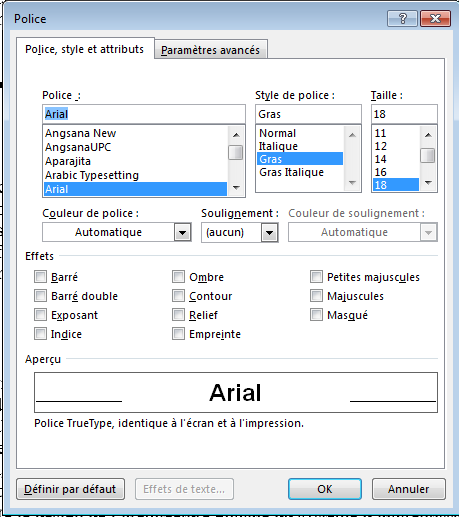texte: (24, 484, 116, 495), (259, 142, 298, 165), (209, 384, 260, 401), (201, 209, 278, 219), (349, 209, 419, 219), (191, 475, 215, 504), (75, 228, 142, 238), (321, 228, 388, 238), (45, 143, 111, 153), (119, 418, 177, 429), (80, 171, 139, 181), (328, 292, 384, 302), (365, 273, 420, 283), (190, 330, 241, 340), (67, 419, 114, 429), (246, 421, 304, 429), (45, 157, 91, 167), (45, 129, 90, 139), (328, 310, 368, 321), (63, 475, 78, 504), (189, 292, 232, 302), (42, 209, 83, 219), (285, 168, 324, 178), (206, 228, 244, 238), (82, 484, 116, 495), (25, 355, 61, 365), (100, 45, 144, 53), (189, 273, 224, 283), (289, 209, 329, 217), (26, 45, 57, 55), (103, 209, 133, 219), (189, 311, 218, 321), (217, 409, 227, 437), (328, 273, 361, 281), (45, 171, 77, 179), (187, 418, 214, 427), (255, 91, 279, 101), (35, 419, 64, 427), (228, 145, 243, 160), (62, 45, 84, 55), (144, 485, 171, 493), (299, 91, 318, 101), (258, 110, 281, 118), (259, 168, 282, 176), (94, 129, 116, 137), (283, 91, 295, 99), (87, 209, 99, 217), (333, 209, 345, 217), (173, 409, 176, 437), (177, 485, 187, 493), (88, 45, 97, 53), (266, 231, 273, 235), (231, 418, 234, 427), (124, 479, 125, 499), (135, 479, 136, 499)
